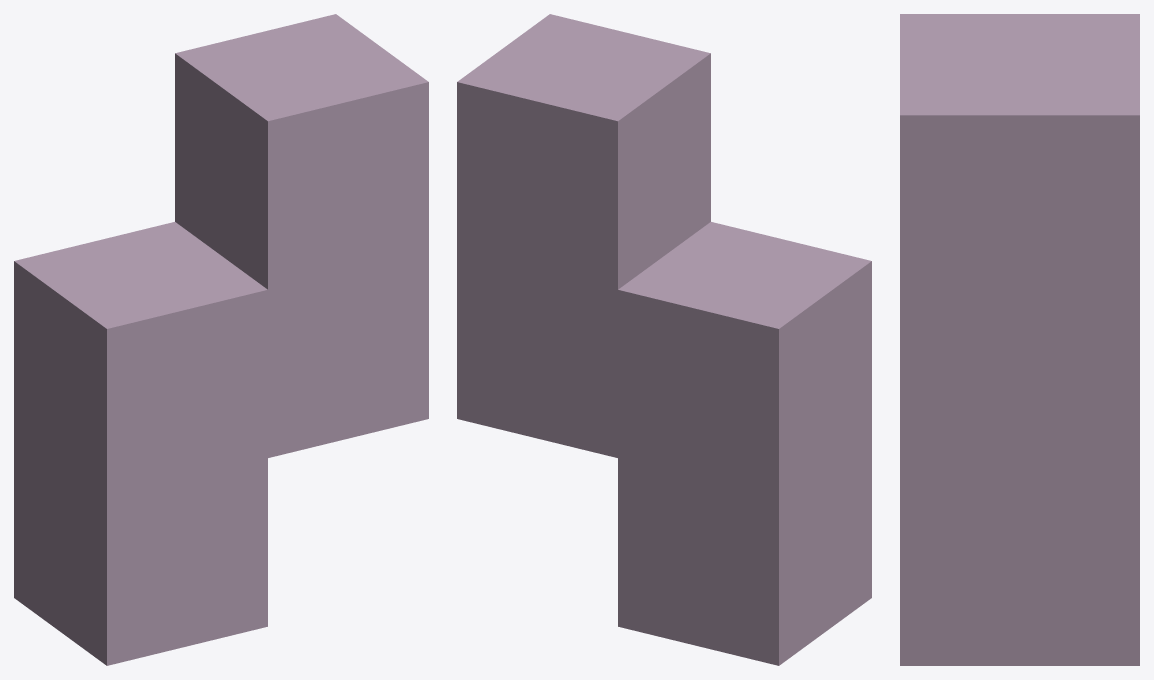
3 views of the same model, side by side, from view 1: azimuth 30°, elevation 25°; view 2: azimuth 150°, elevation 25°; view 3: azimuth 270°, elevation 25° (orthographic). The views are drawn at different scales.
Parts seen in each view (by area): view 1: cube_z_up; view 2: cube_z_up; view 3: cube_z_up.
Part boxes in pixels (x1,y1,x2,y2): cube_z_up: (14, 14, 428, 665); cube_z_up: (457, 14, 871, 665); cube_z_up: (900, 14, 1139, 665).
Size of the model in its own units: 200 by 300 by 100.
